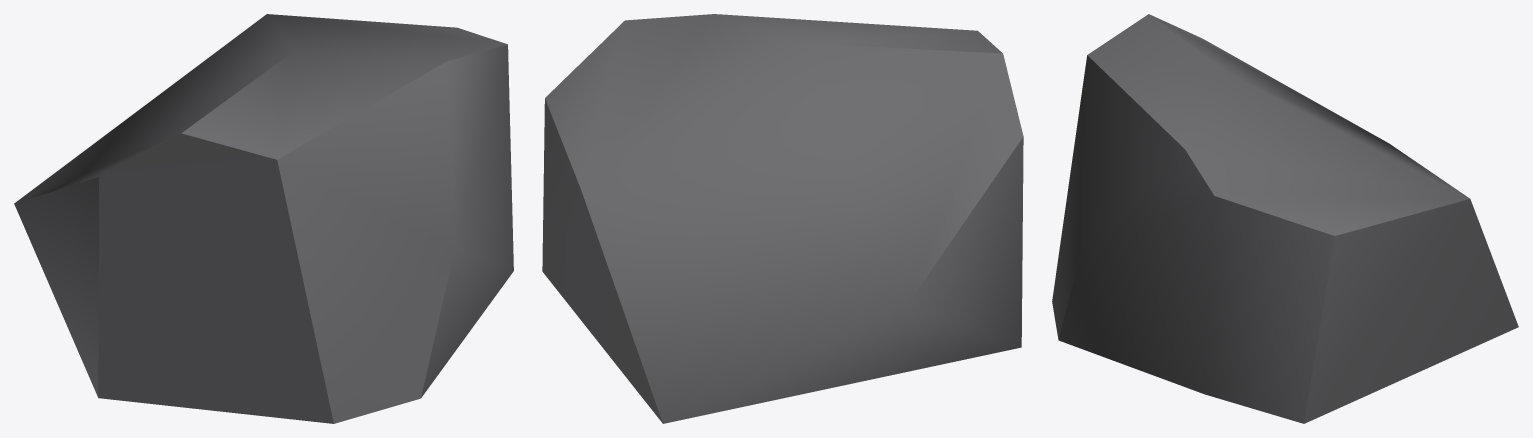
File: Stone_02.fbx
3 views of the same model, side by side, from view 1: azimuth 30°, elevation 25°; view 2: azimuth 150°, elevation 25°; view 3: azimuth 270°, elevation 25° (orthographic). The views are drawn at different scales.
Visible parts, largest first — view 1: Stone_02; view 2: Stone_02; view 3: Stone_02.
Part boxes in pixels (x1,y1,x2,y2): Stone_02: (14, 14, 513, 423); Stone_02: (542, 14, 1023, 423); Stone_02: (1052, 14, 1518, 423).
Bounding box in the file's own units: 106 × 63.91 × 107.
